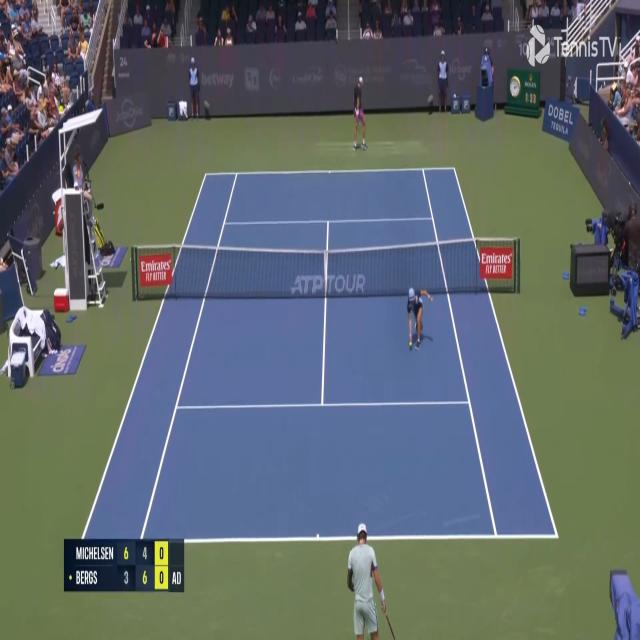tennis-player: (346, 520, 400, 639), (351, 76, 368, 153)
